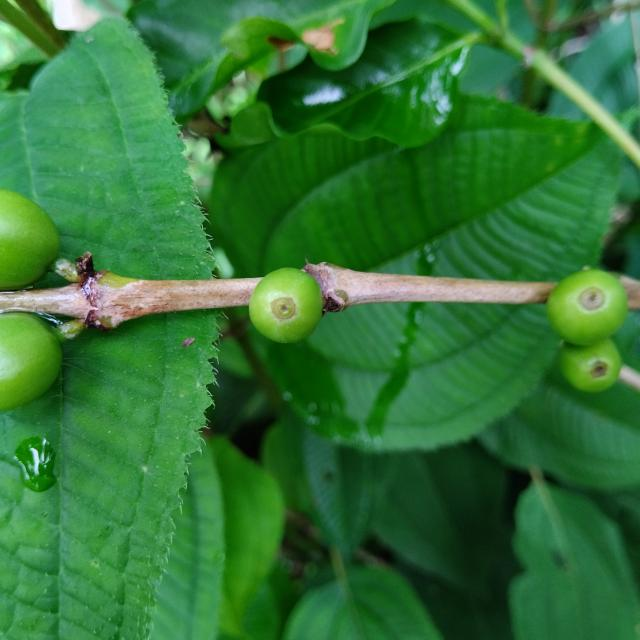green: (548, 269, 629, 346), (0, 313, 61, 411), (0, 189, 59, 290), (249, 268, 323, 343), (560, 339, 622, 392)
